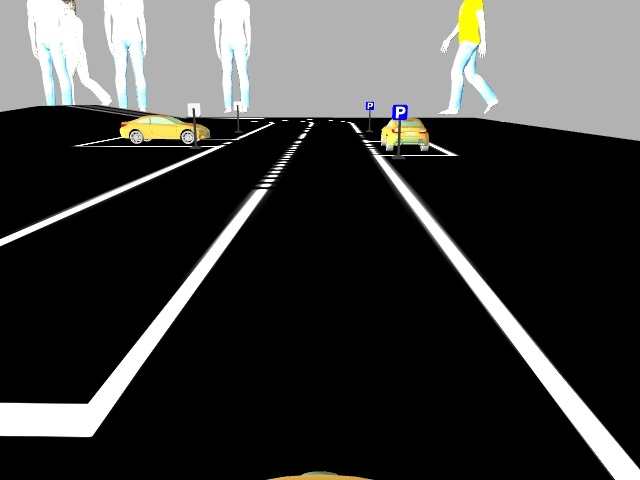Parking: (390, 103, 408, 120), (363, 99, 374, 109)
